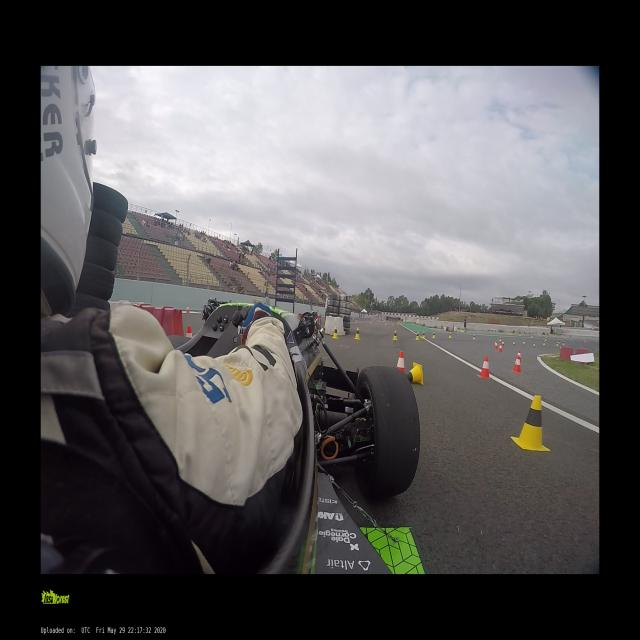orange_cone: (477, 356, 491, 379), (511, 355, 521, 374), (397, 351, 405, 373), (514, 350, 522, 363), (186, 326, 192, 338), (493, 341, 498, 349), (185, 306, 190, 313), (498, 345, 502, 352), (512, 341, 515, 346), (501, 340, 503, 346)
yellow_cone: (512, 395, 549, 454), (405, 362, 423, 385), (332, 326, 338, 340), (354, 328, 360, 340), (392, 331, 398, 340), (414, 332, 420, 340), (421, 331, 425, 339), (498, 337, 502, 342), (472, 334, 476, 339), (432, 332, 435, 338), (448, 332, 451, 338), (522, 339, 526, 343)
